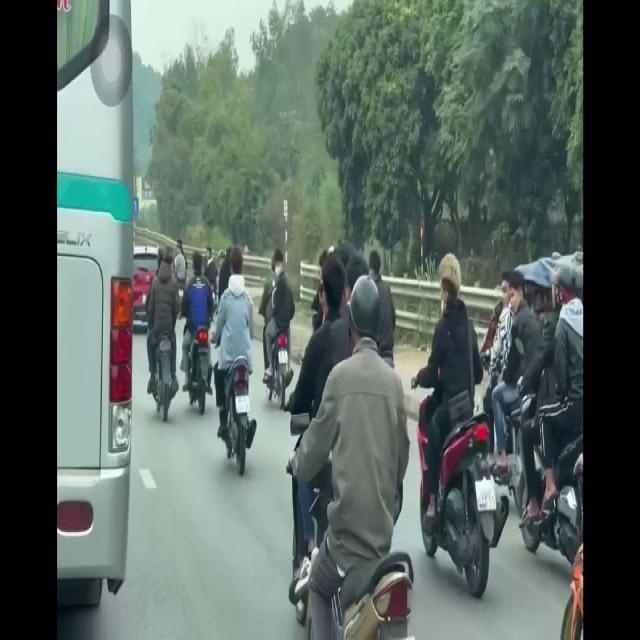helmet: (349, 274, 381, 369)
no_helmet: (439, 249, 463, 340)
